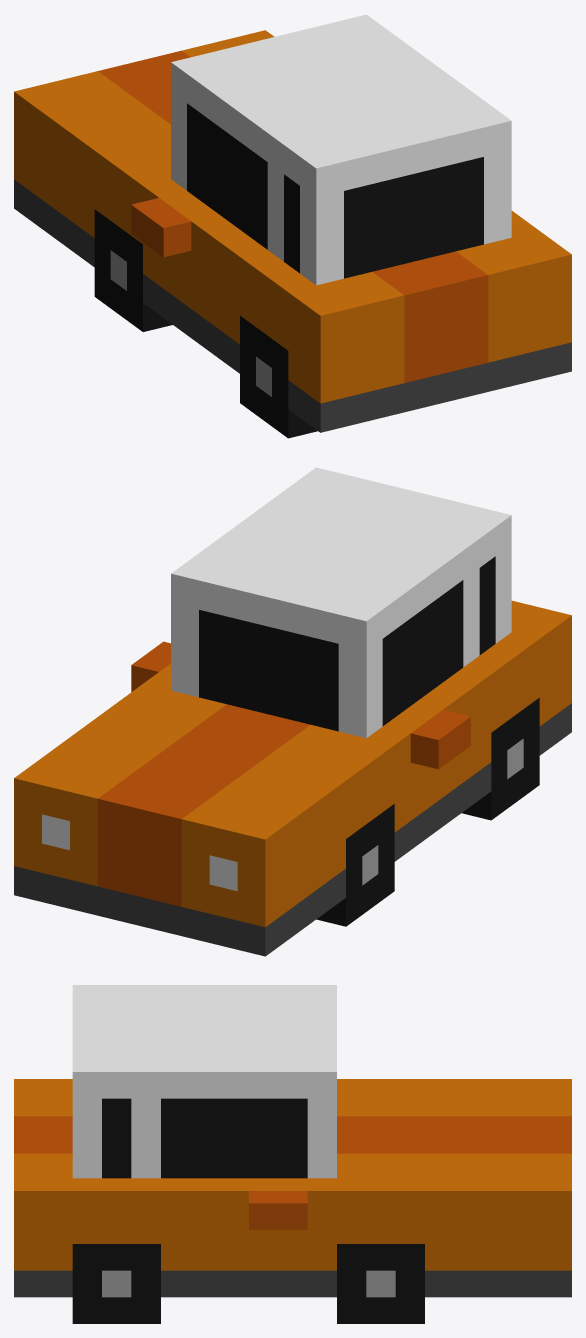
The model's file is car_4.obj.
3 views of the same model, one above another, from view 1: azimuth 30°, elevation 25°; view 2: azimuth 150°, elevation 25°; view 3: azimuth 270°, elevation 25° (orthographic). The views are drawn at different scales.
Visible parts, largest first — view 1: car_4; view 2: car_4; view 3: car_4.
Part boxes in pixels (box(x1,y1,x2,y2)): car_4: box(14, 14, 571, 438); car_4: box(14, 467, 571, 956); car_4: box(14, 985, 571, 1323).
Bounding box in the file's own units: 11 × 9 × 19.
1 material, 1 textured.
